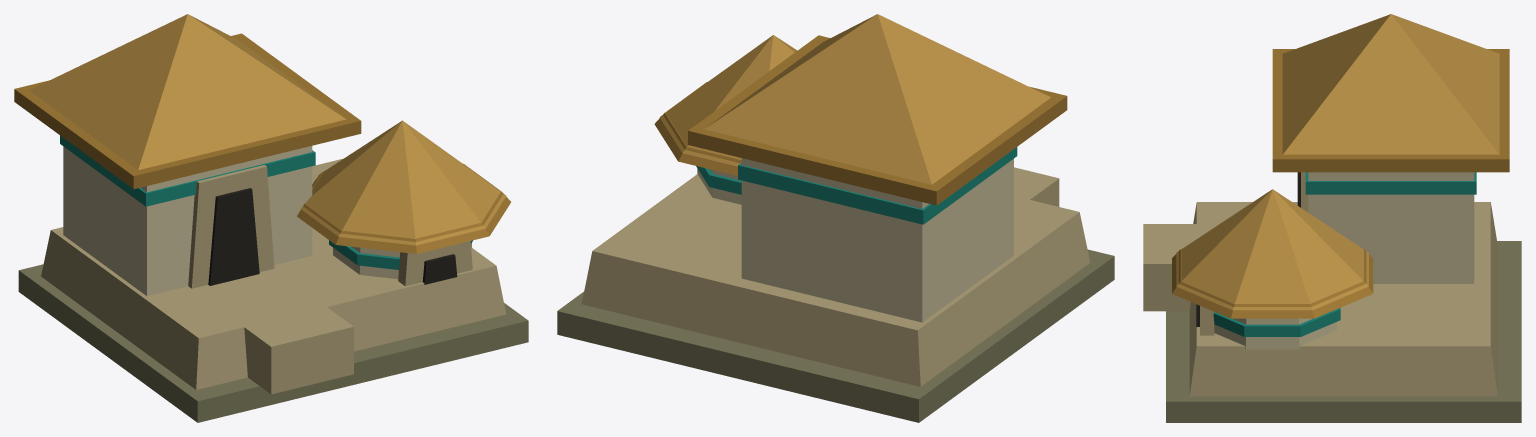
Rendered from house_t3.glb.
The picture shows the model from 3 angles, left to right: view 1: azimuth 30°, elevation 25°; view 2: azimuth 150°, elevation 25°; view 3: azimuth 270°, elevation 25°; orthographic projection. The views are drawn at different scales.
Parts seen in each view (by area): view 1: body; view 2: body; view 3: body.
Part boxes in pixels (x1=…): body: x1=14, y1=14, x2=528, y2=422; body: x1=557, y1=14, x2=1114, y2=422; body: x1=1143, y1=14, x2=1521, y2=422.
Bounding box in the file's own units: 1.72 × 1.39 × 1.6.
